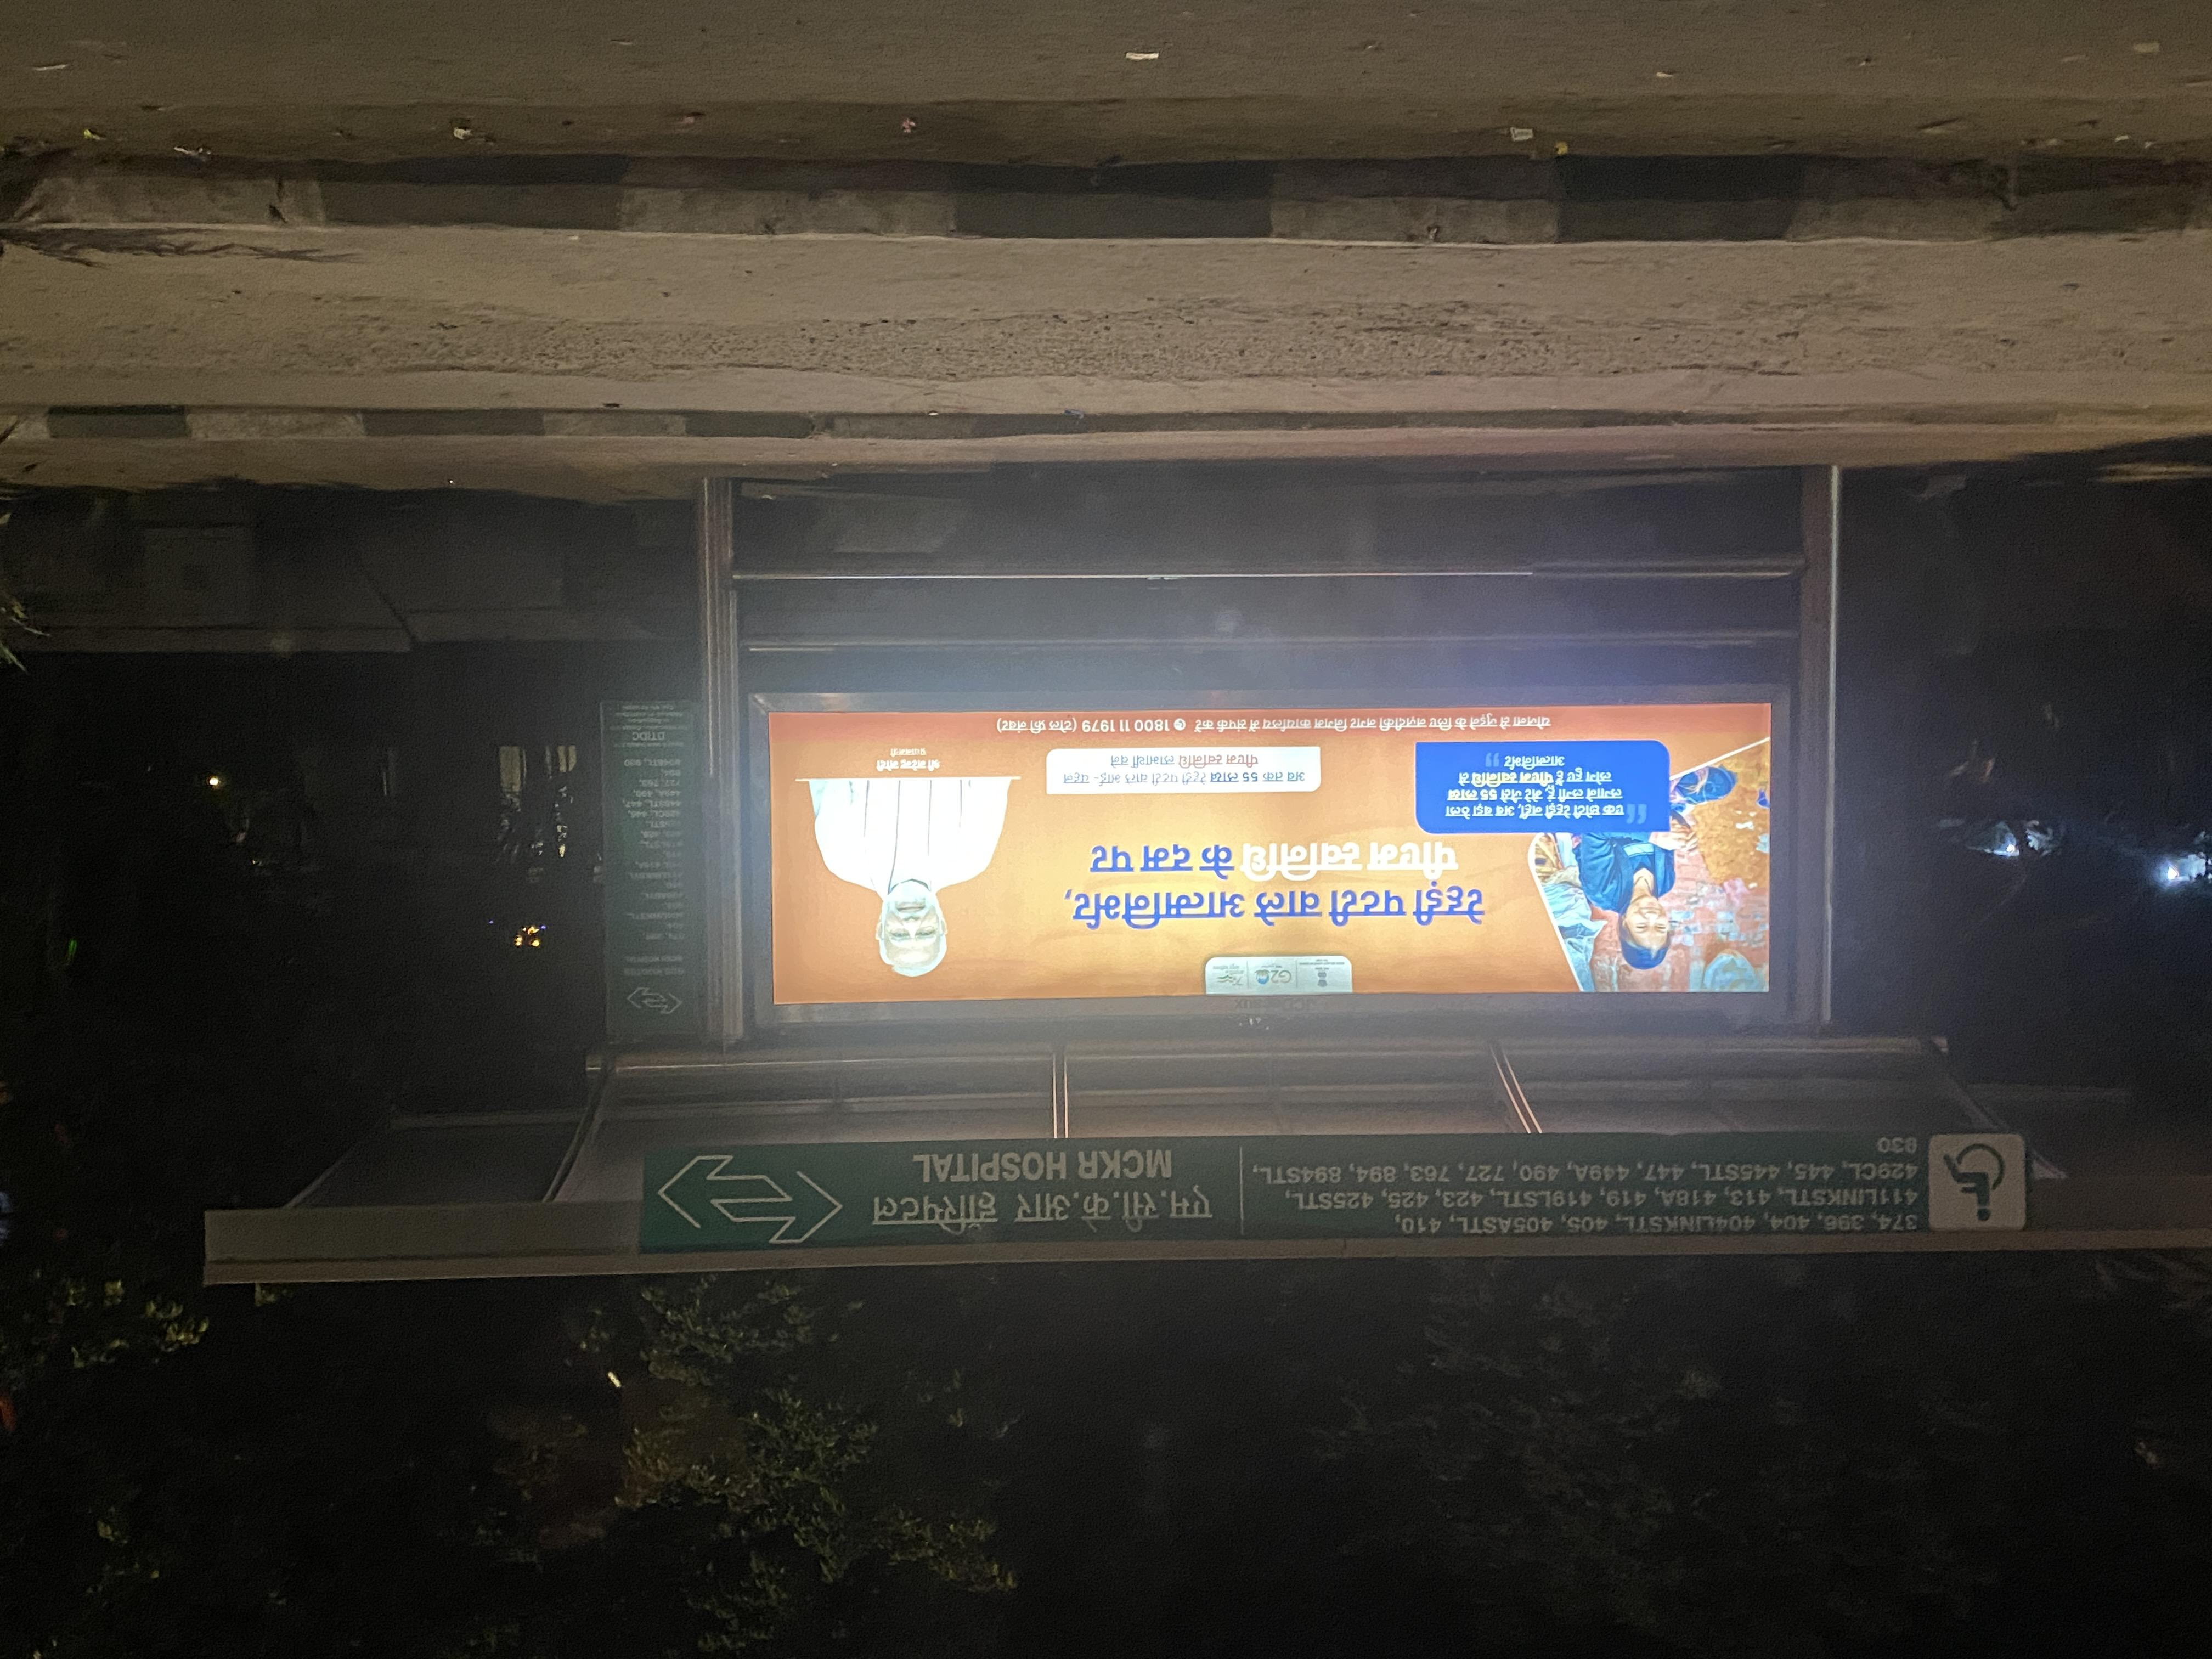Bus-stop-board: (653, 1108, 2067, 1267)
